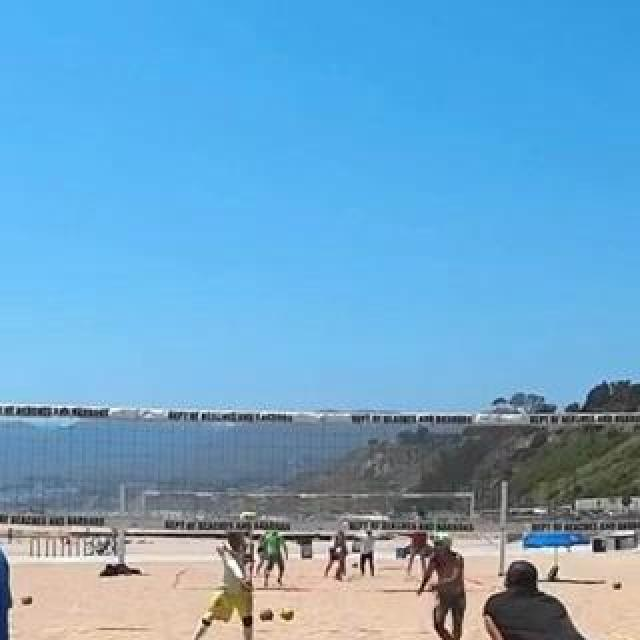volleyball: (238, 510, 262, 534), (280, 607, 294, 621), (261, 608, 275, 622), (21, 594, 33, 606), (613, 581, 623, 591)
